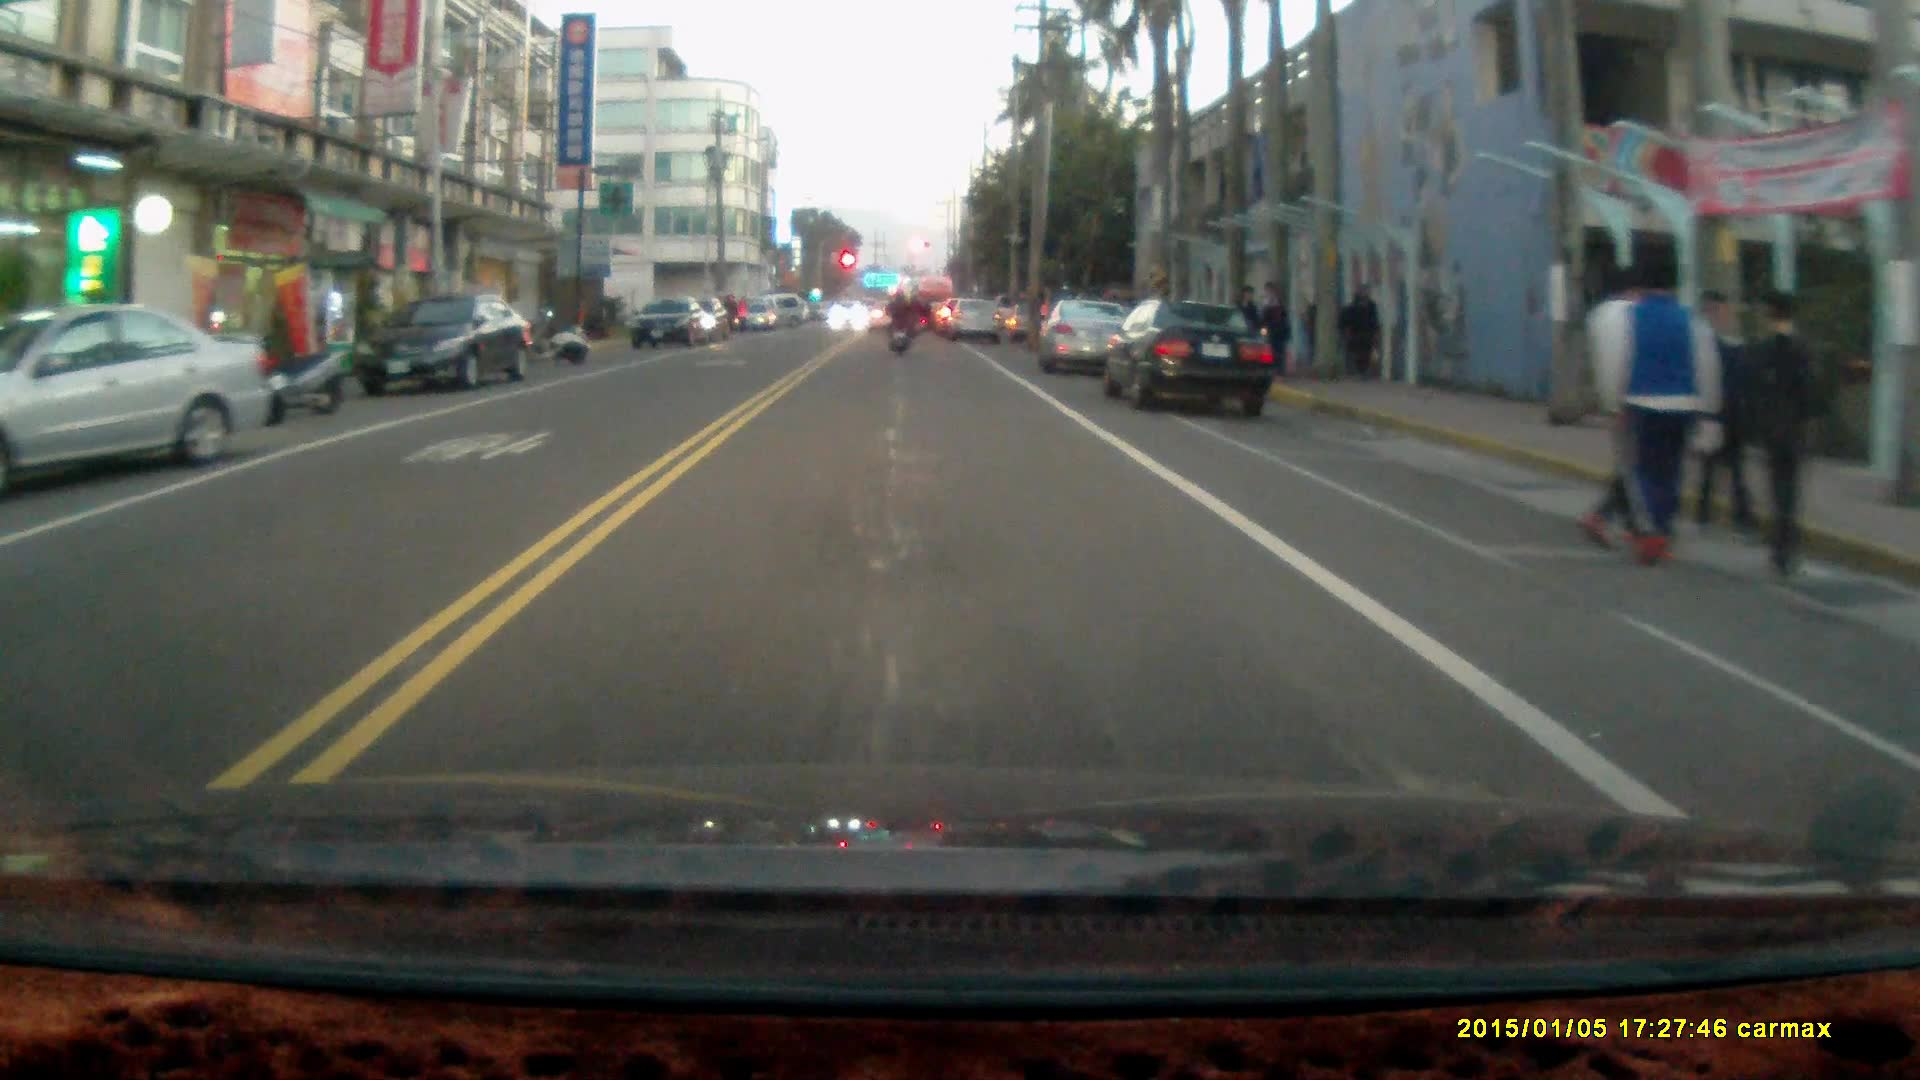pedestrian: (1597, 253, 1722, 570), (1741, 289, 1826, 585), (1582, 274, 1665, 550), (1689, 290, 1762, 545), (1340, 281, 1383, 387), (1257, 287, 1291, 378)
rider: (883, 286, 914, 358)
vehicle: (1, 302, 274, 493), (1103, 296, 1279, 417), (361, 291, 533, 396), (1039, 299, 1139, 379), (627, 297, 720, 353), (952, 297, 1007, 342)
